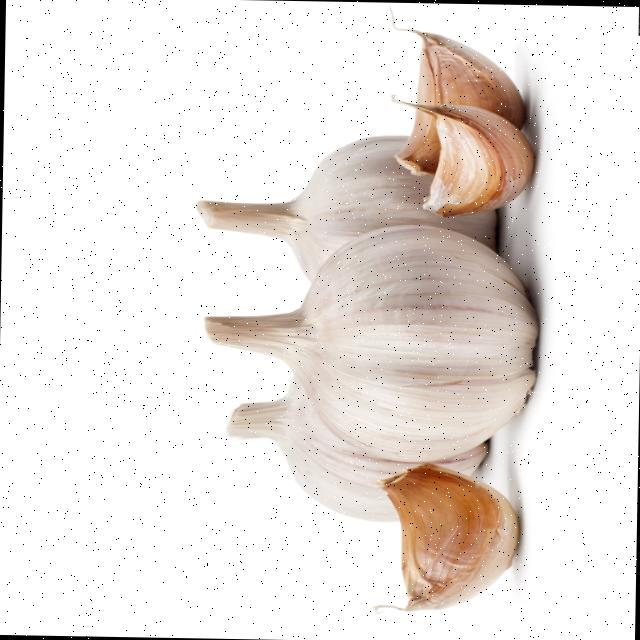garlic: (204, 225, 537, 461), (196, 136, 496, 279), (226, 377, 418, 521), (378, 463, 516, 610), (391, 95, 532, 216), (414, 31, 523, 128), (394, 110, 439, 174)
